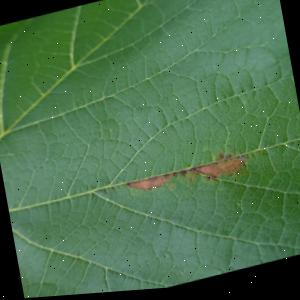Folha: (0, 0, 300, 300)
Fungo: (125, 155, 250, 204), (190, 157, 248, 188), (124, 175, 166, 197)
